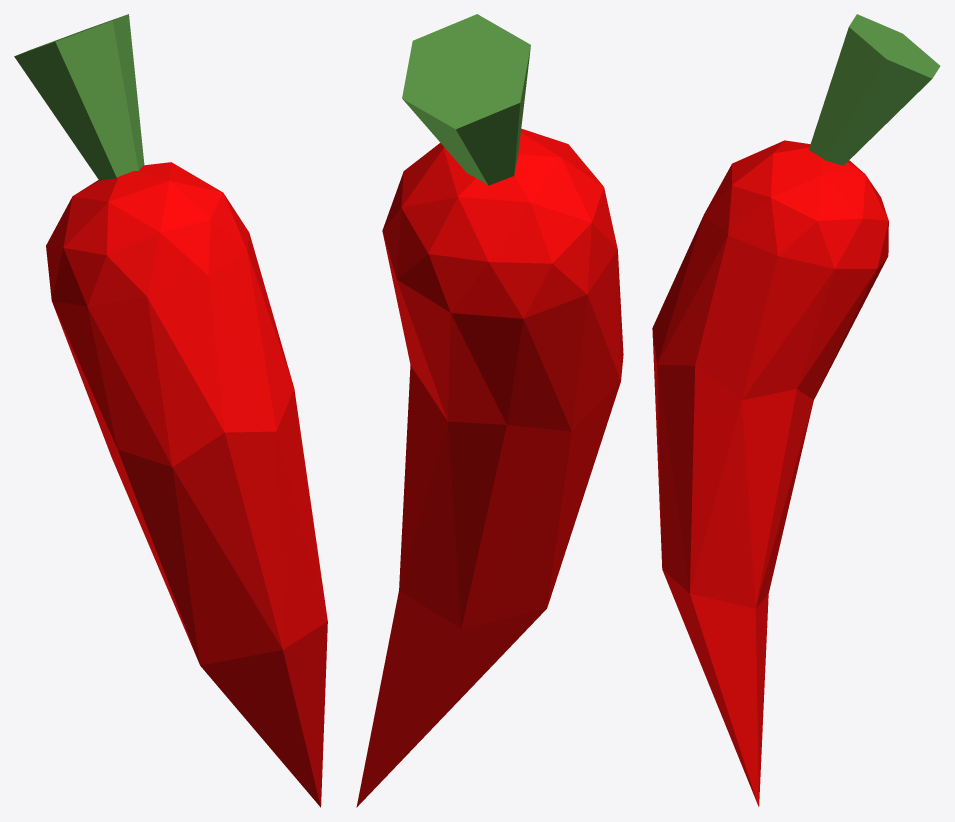
File: red_pepper.fbx
3 views of the same model, side by side, from view 1: azimuth 30°, elevation 25°; view 2: azimuth 150°, elevation 25°; view 3: azimuth 270°, elevation 25° (orthographic). The views are drawn at different scales.
Parts seen in each view (by area): view 1: red_pepper; view 2: red_pepper; view 3: red_pepper.
Part boxes in pixels (x1,y1,x2,y2): red_pepper: (14, 14, 327, 807); red_pepper: (356, 14, 623, 807); red_pepper: (652, 14, 940, 806).
Bounding box in the file's own units: 23.94 × 75.71 × 27.79.
1 material, 1 textured.
